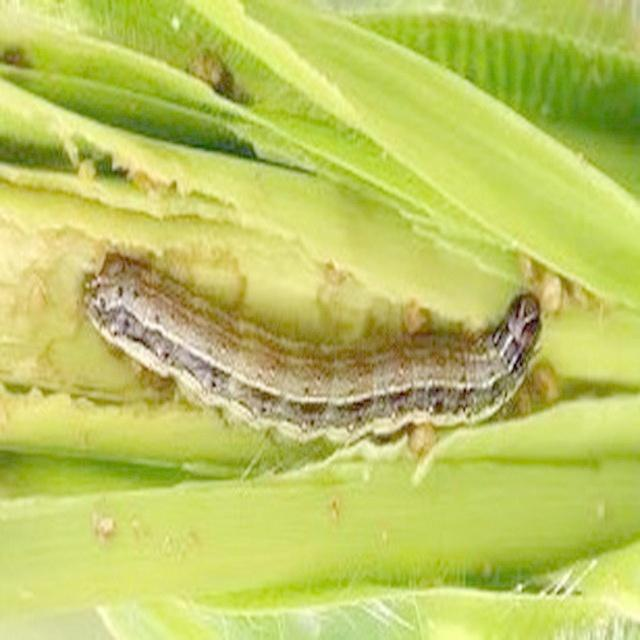gusano_cogollero: (89, 245, 544, 433)
